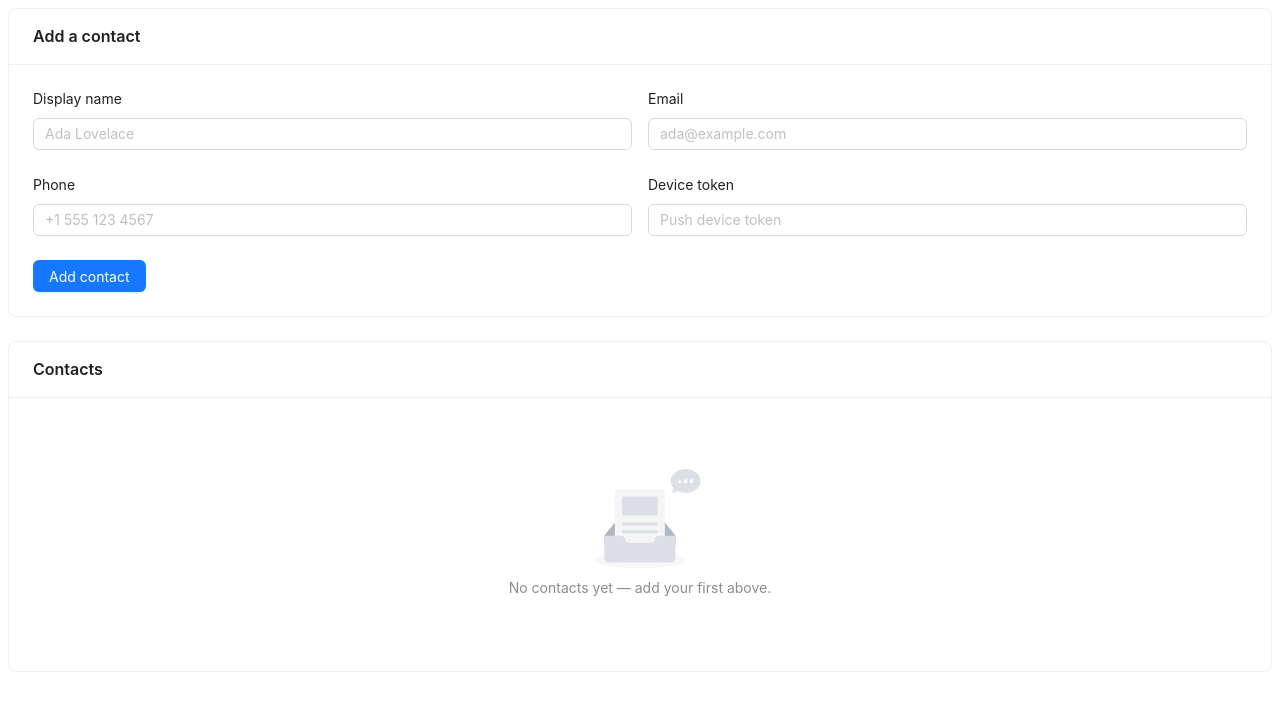
Scenario: ContactsPage › blocks a submission with no destination, client-side
Expected: the text "No contacts yet — add your first above." is shown, [509, 579, 771, 596]
Step 1. Type "No Destinations" into the field labelled "Display name" → (332,134), box [33, 118, 632, 150]
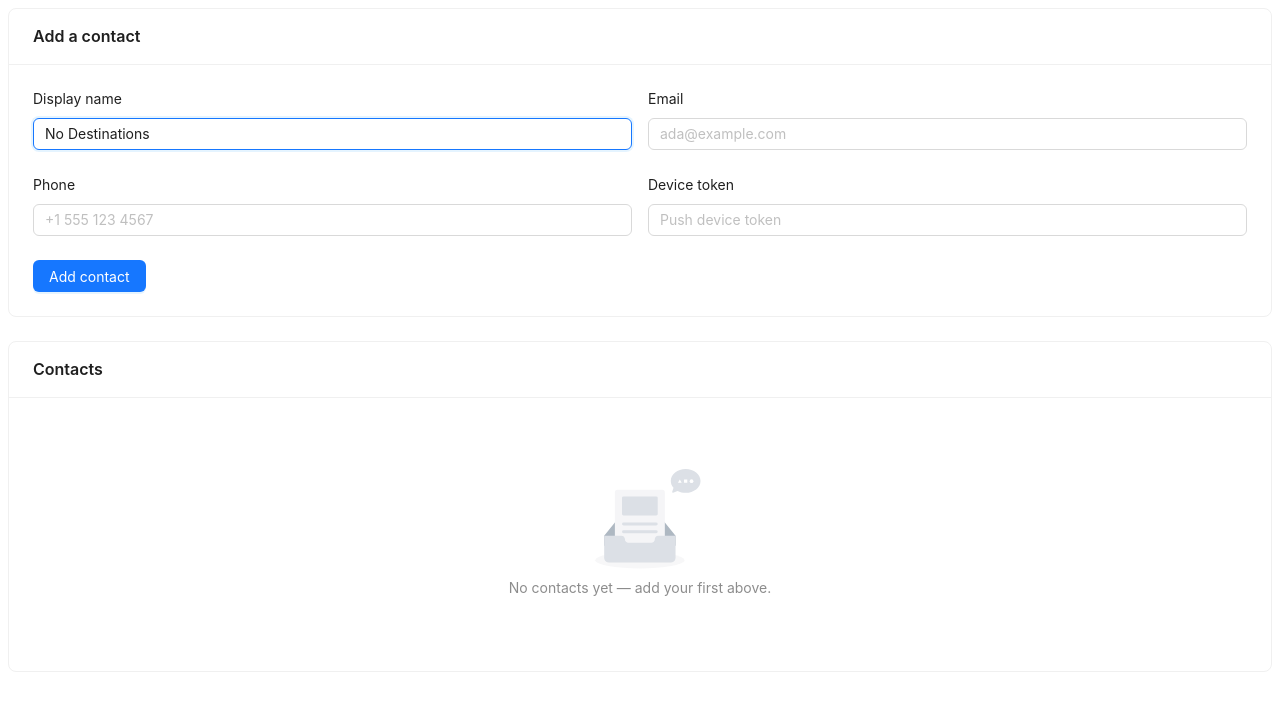
Step 2. Click the button "Add contact" → (89,276), box [33, 260, 146, 292]
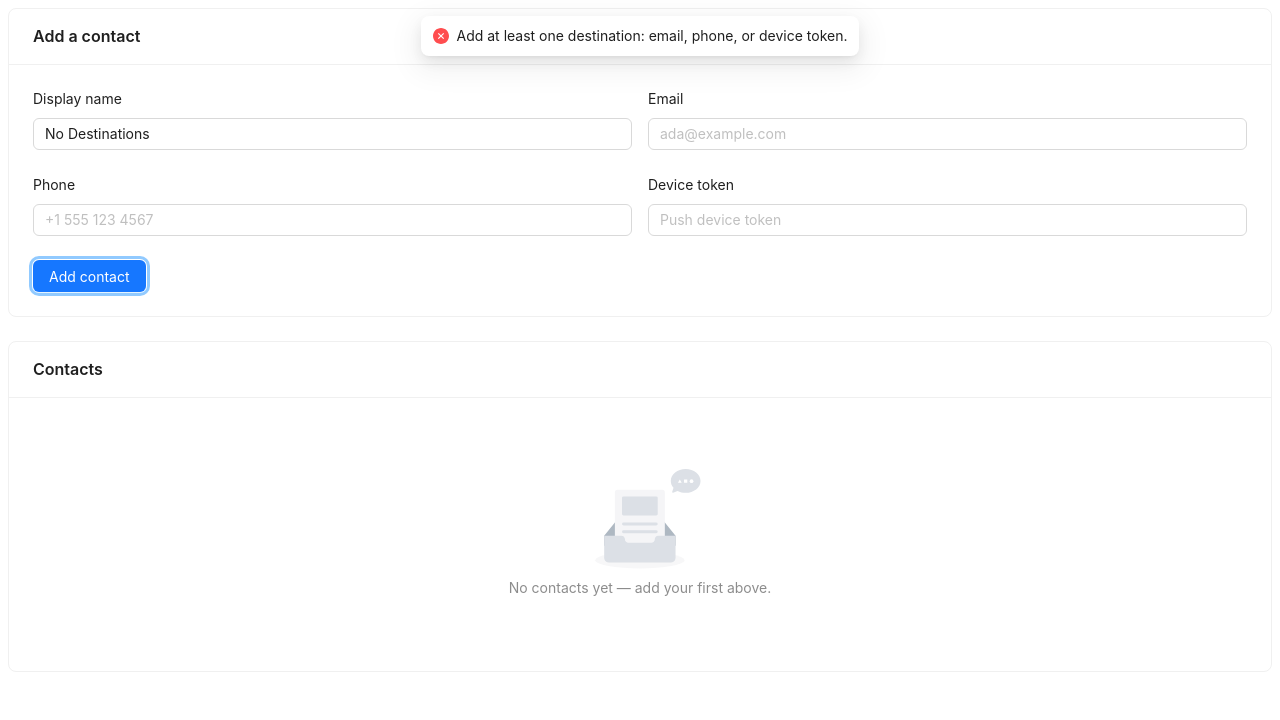
Result: the text "Add at least one destination: email, phone, or device token." is shown at [456, 25, 848, 47]
